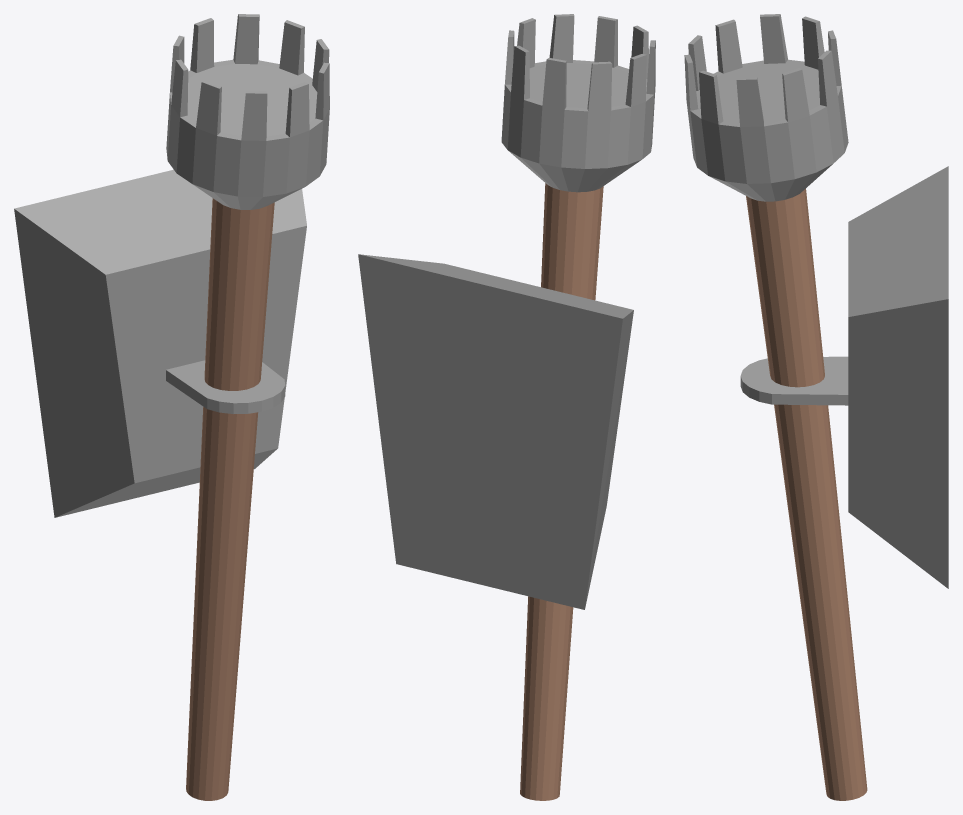
Rendered from Torch.fbx.
The picture shows the model from 3 angles, left to right: view 1: azimuth 30°, elevation 25°; view 2: azimuth 150°, elevation 25°; view 3: azimuth 270°, elevation 25°; orthographic projection. The views are drawn at different scales.
Parts seen in each view (by area): view 1: polySurface26; view 2: polySurface26; view 3: polySurface26.
Part boxes in pixels (box(x1,y1,x2,y2)): polySurface26: box(14, 14, 329, 800); polySurface26: box(358, 14, 655, 800); polySurface26: box(684, 14, 948, 800).
Size of the model in its own units: 43.17 by 114 by 36.23.
